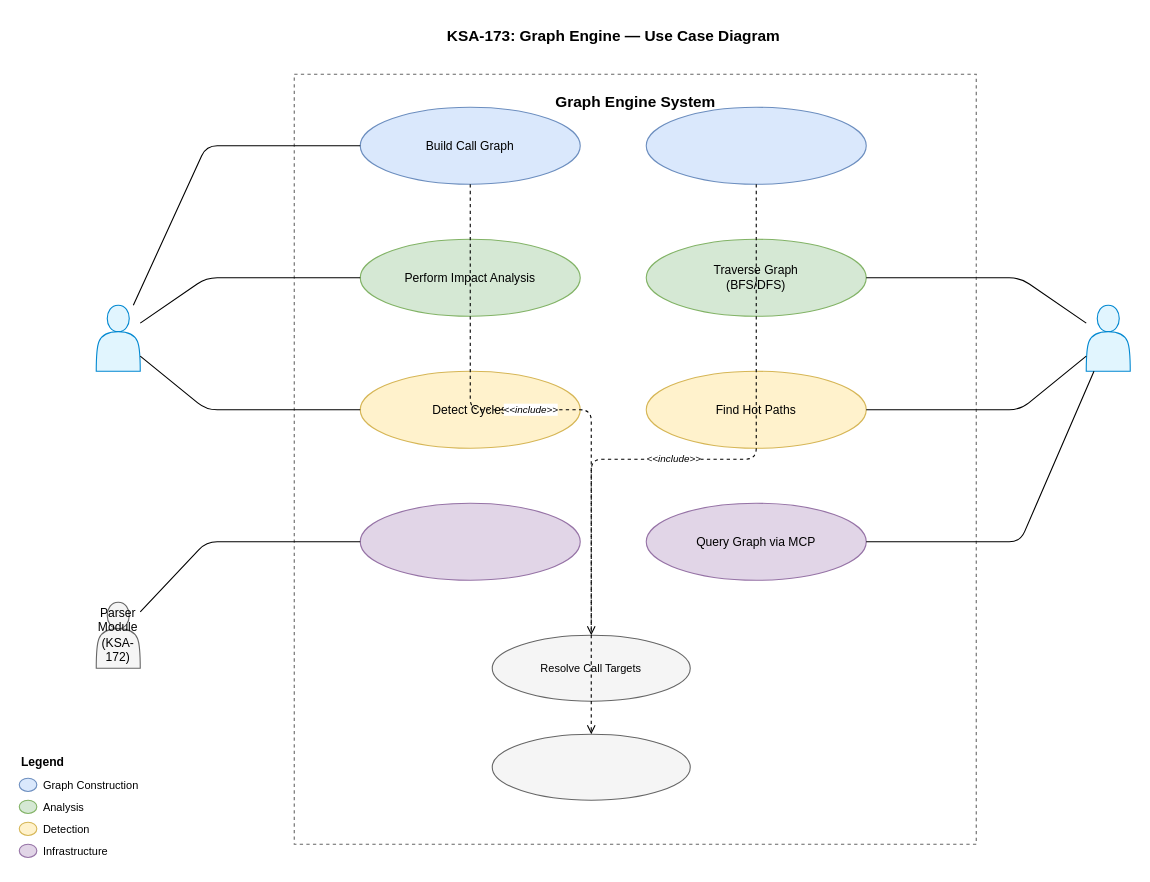
The diagram is 1150 pixels wide and 882 high, and some of its shapes have lost their labels. Here are the shapes that lost their labels. From the top down, the centre of each, then its label:
(x=755, y=145): Build Dependency Graph
(x=117, y=337): Developer
(x=1107, y=337): AI Agent
(x=469, y=541): Incremental Graph Update
(x=590, y=766): Resolve Import Paths
